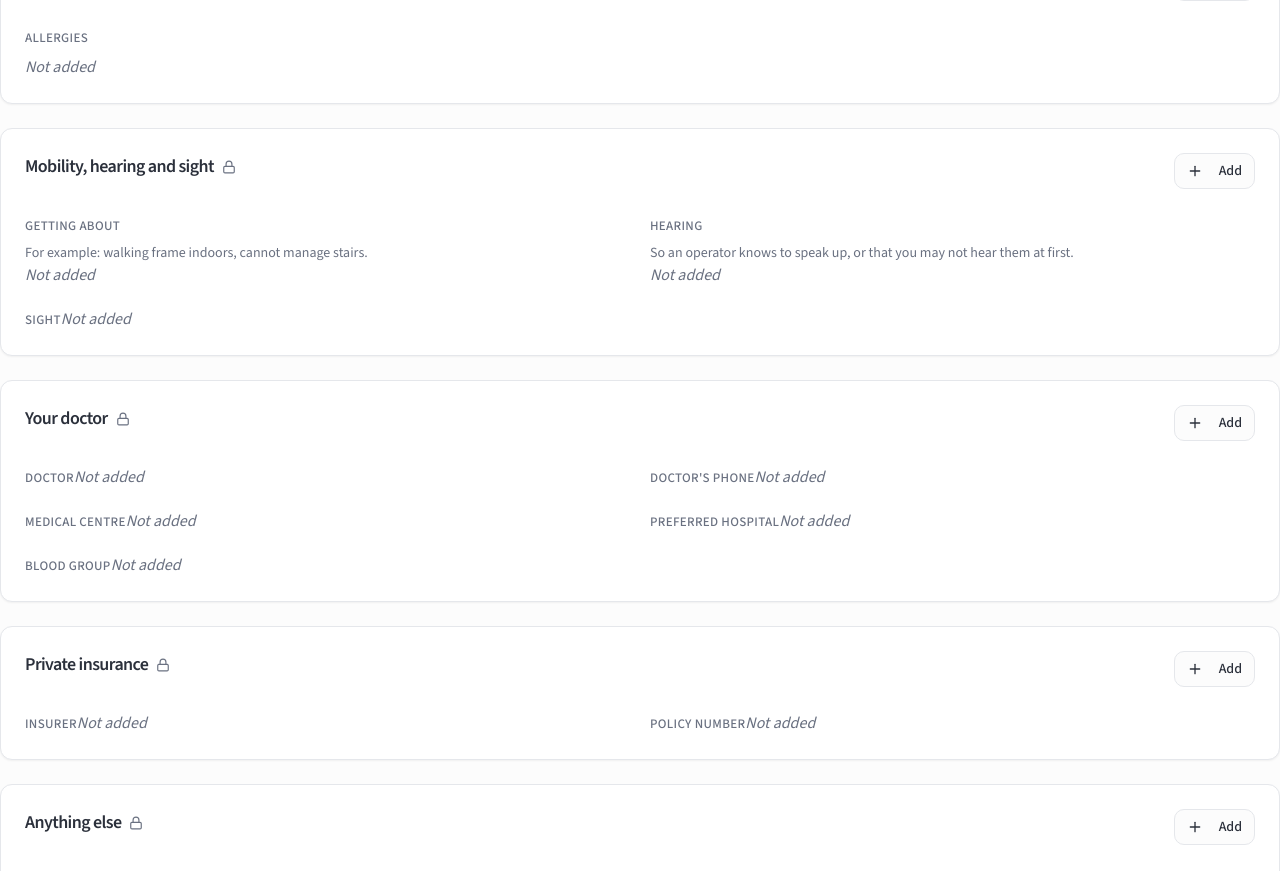
the page renders all of them › each card is its own Edit and its own Save — one button no longer opens all sixteen
The image size is (1280, 871).
(page scrolled)
Expected: the button with test id "medical-section-insurance-edit" is shown, 1174,651 -> 1255,687
// And unlocking one leaves the other five locked.
Click the button with test id "medical-section-doctor-edit": (1214, 423) 1174,405 -> 1255,441
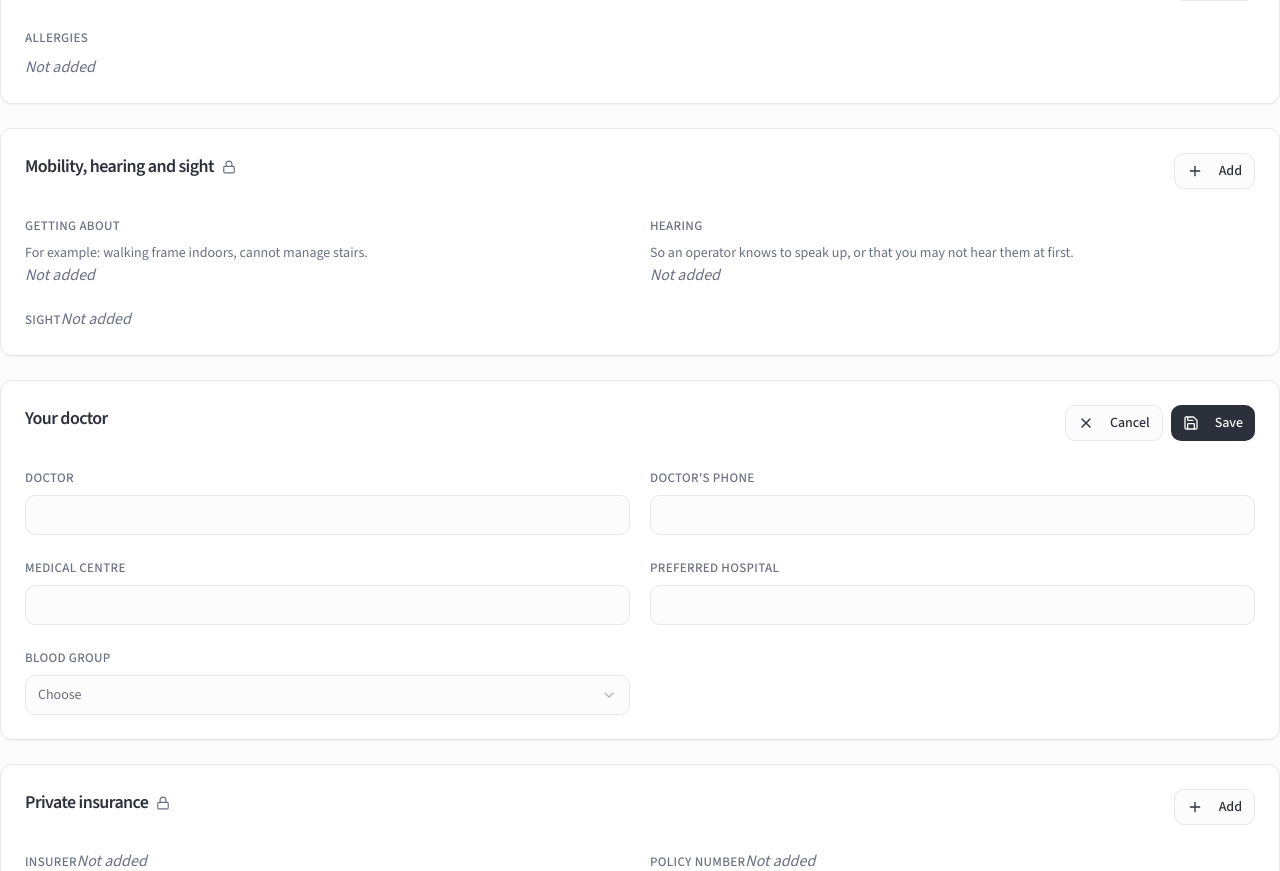
Now the button with test id "medical-section-doctor-save" is shown, box 1171,405 -> 1255,441
